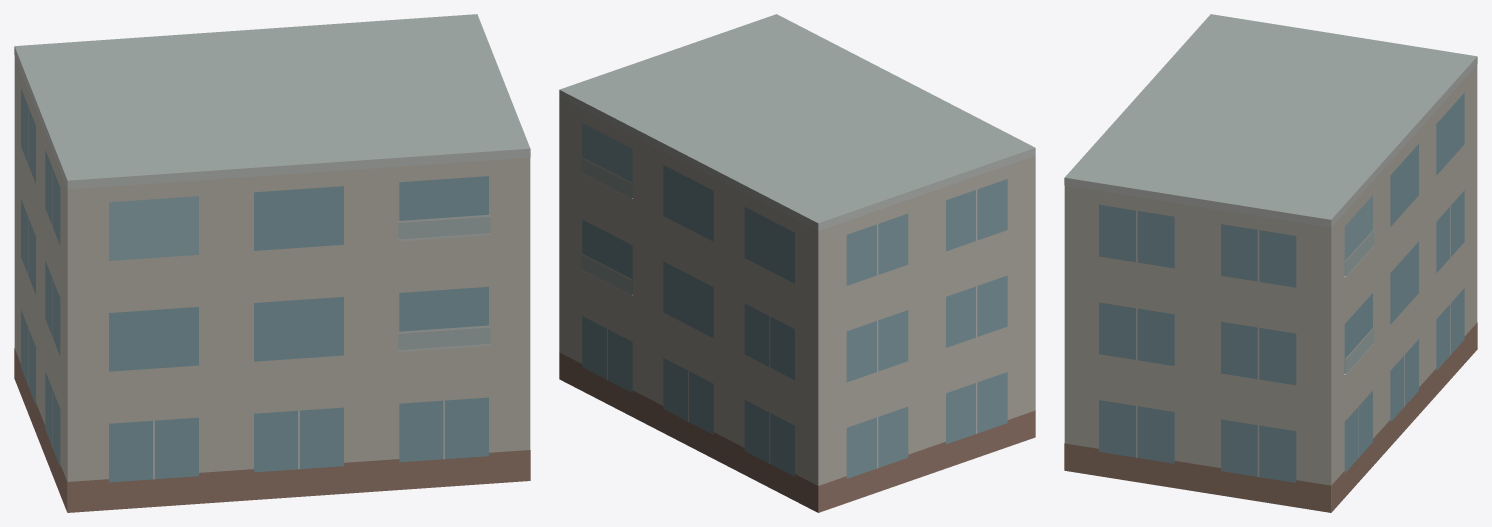
The model's file is survey-upis-32718980.glb.
The picture shows the model from 3 angles, left to right: view 1: azimuth 30°, elevation 25°; view 2: azimuth 150°, elevation 25°; view 3: azimuth 270°, elevation 25°; orthographic projection. The views are drawn at different scales.
Parts seen in each view (by area): view 1: survey-upis-32718980.tmp; view 2: survey-upis-32718980.tmp; view 3: survey-upis-32718980.tmp.
Boxes of the visible parts, <box> form: survey-upis-32718980.tmp: <box>14,14,530,512</box>; survey-upis-32718980.tmp: <box>559,14,1035,512</box>; survey-upis-32718980.tmp: <box>1064,14,1477,512</box>.
Bounding box in the file's own units: 13.79 × 9.15 × 11.7.
